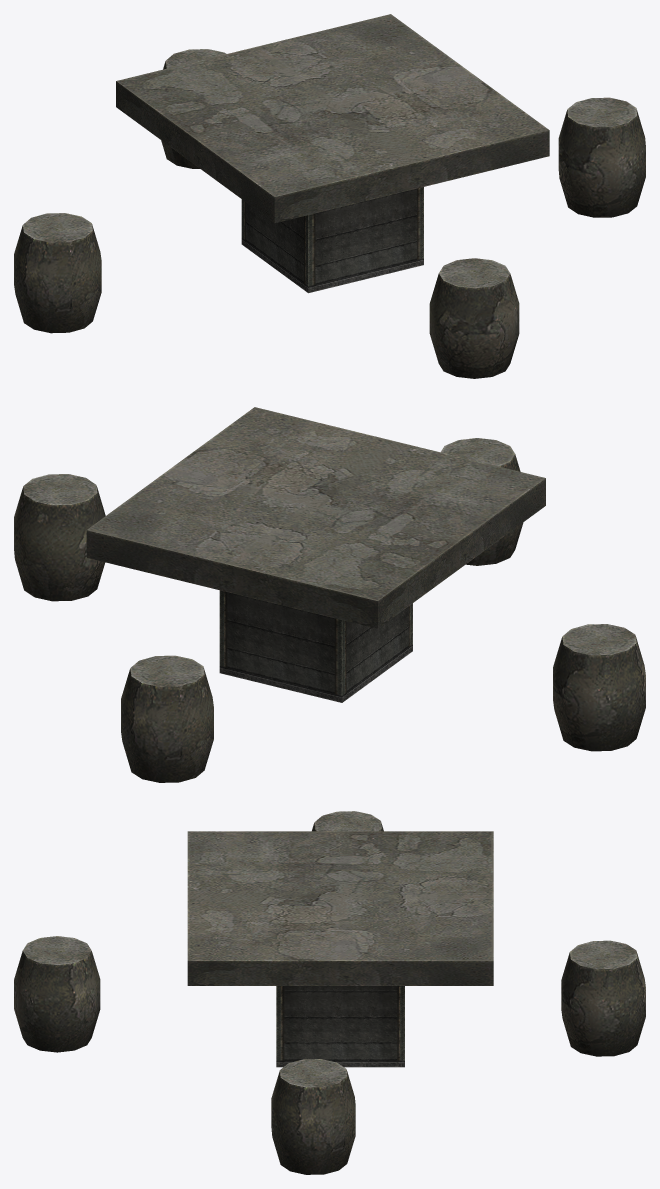
File: shizuo.FBX
The picture shows the model from 3 angles, top to bottom: view 1: azimuth 30°, elevation 25°; view 2: azimuth 150°, elevation 25°; view 3: azimuth 270°, elevation 25°; orthographic projection. The views are drawn at different scales.
Visible parts, largest first — view 1: Box001; view 2: Box001; view 3: Box001.
Part boxes in pixels (x1,y1,x2,y2): Box001: (14,14,645,378); Box001: (14,407,645,782); Box001: (14,811,645,1174).
Bounding box in the file's own units: 329 × 77.96 × 310.
1 material, 1 textured.
